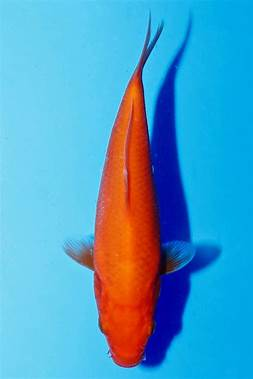red: (61, 10, 195, 368)
